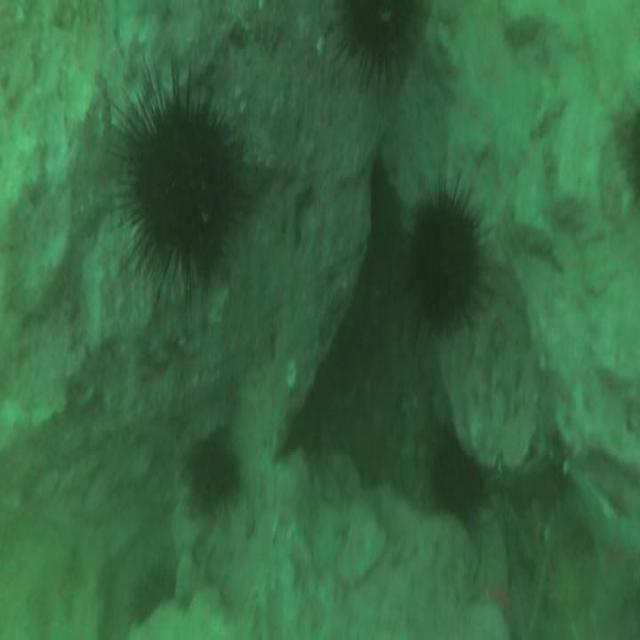echinus: (134, 108, 235, 262), (406, 196, 474, 308), (428, 442, 481, 524), (346, 0, 411, 66), (185, 436, 237, 517)
